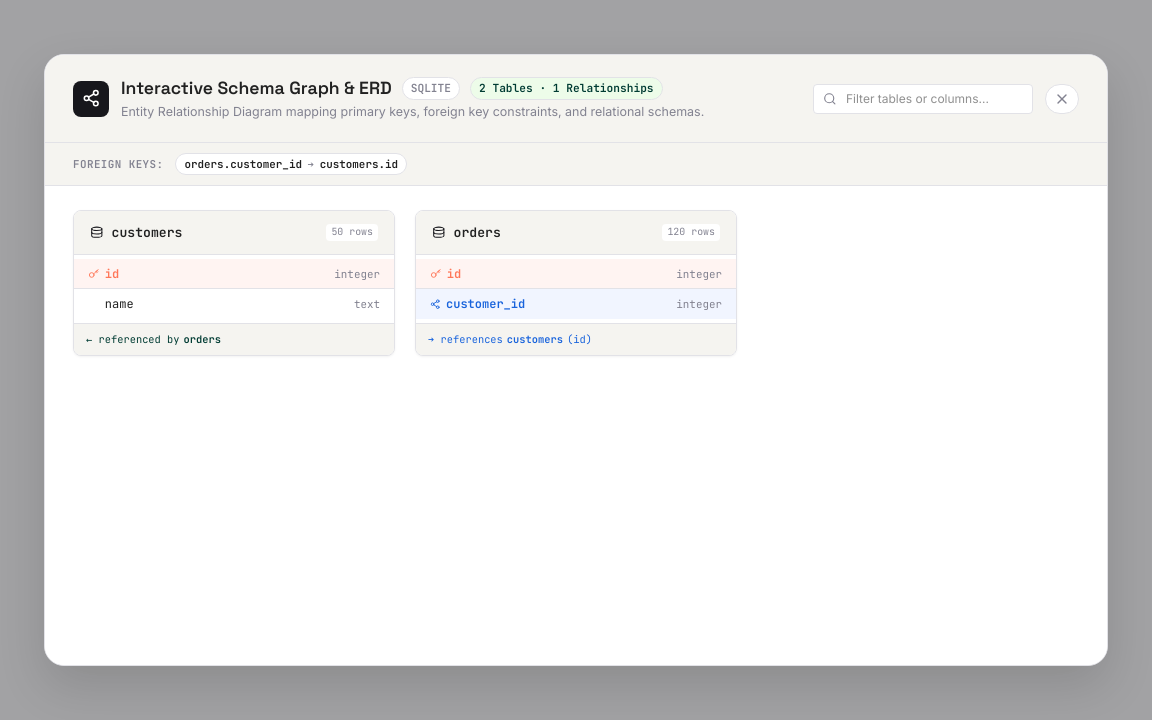
ErdModal Component › shows filter empty state when search matches no tables
The width and height of the screenshot is (1152, 720).
Type "nonexistent_table" into the field labelled "Filter tables or columns..." at {"x": 923, "y": 98}, box x1=813 y1=84 x2=1033 y2=114
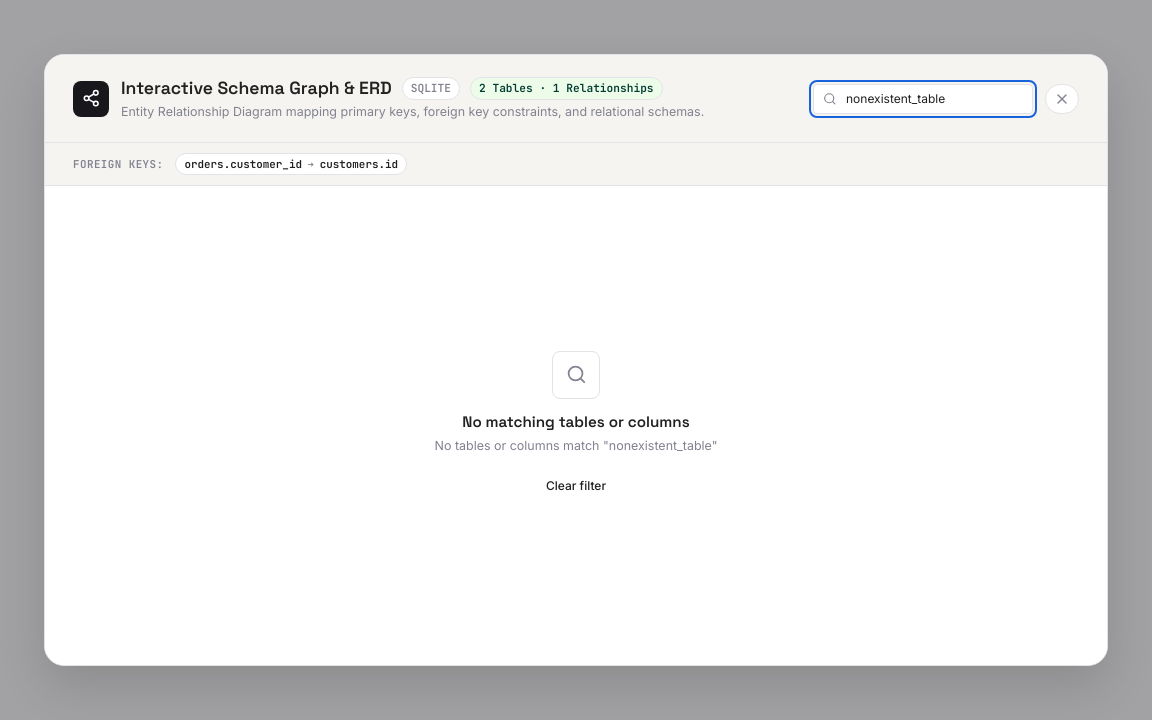
Check: the text "No matching tables or columns" is shown, box x1=462 y1=412 x2=690 y2=430
Click the button "Clear filter" at {"x": 576, "y": 486}, box x1=534 y1=472 x2=618 y2=500
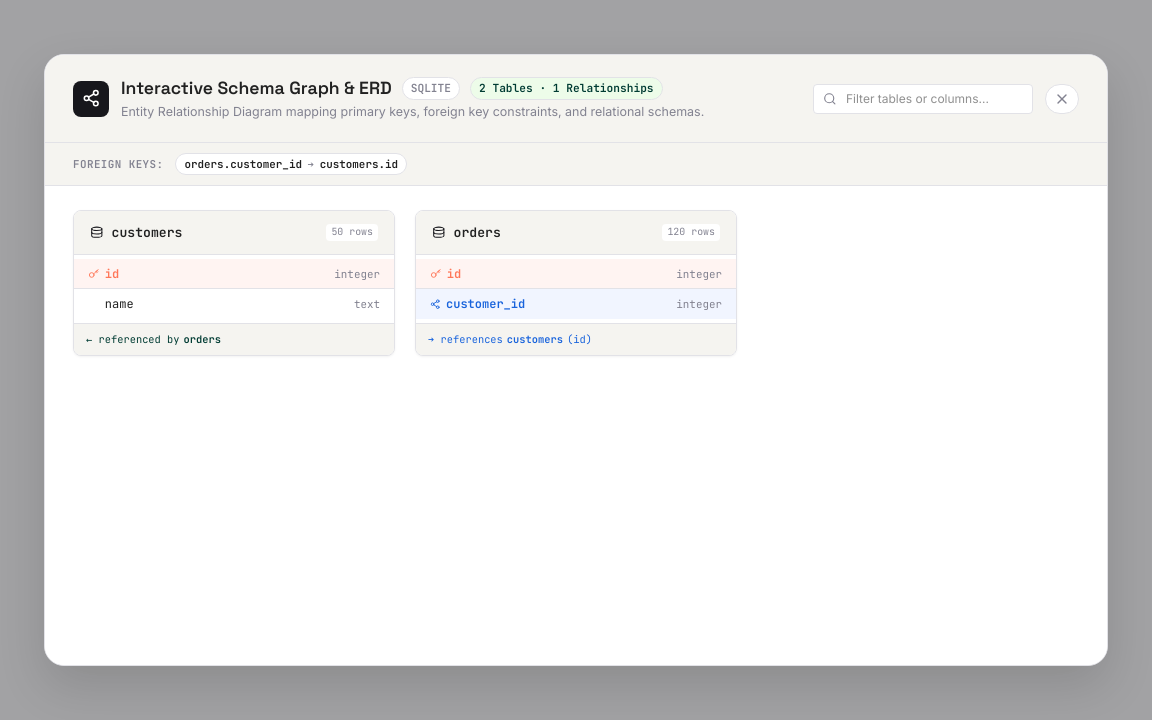
Check: the text "customers" next to "50" is shown, box x1=112 y1=224 x2=182 y2=241
